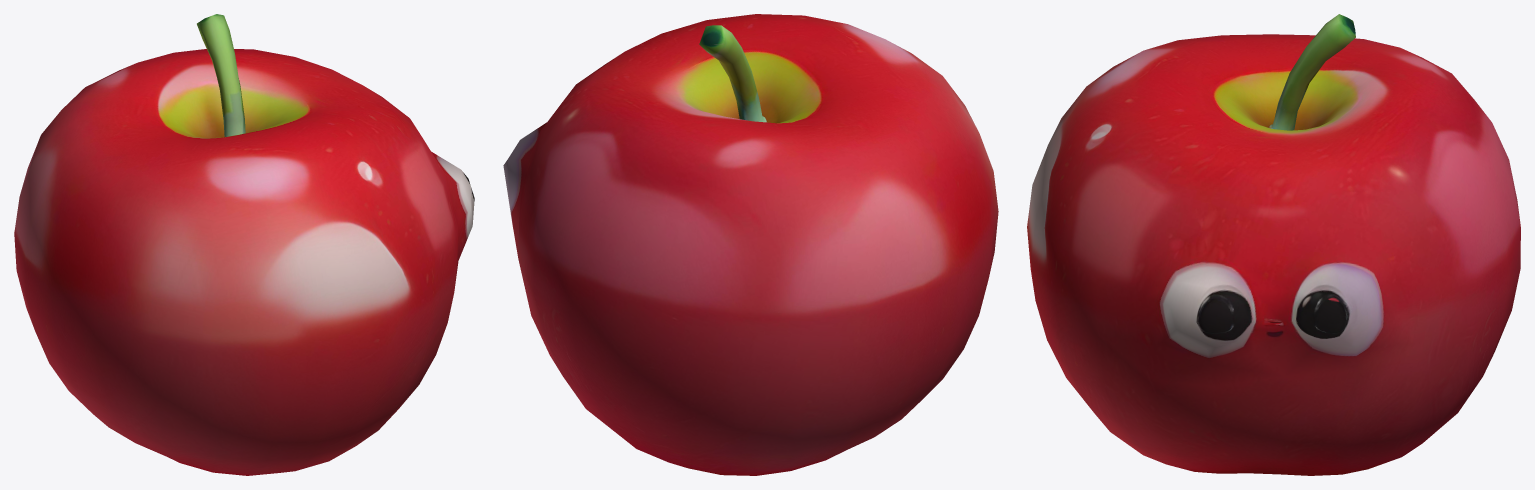
The model's file is apple_500.fbx.
3 renders of one model, left to right at view 1: azimuth 30°, elevation 25°; view 2: azimuth 150°, elevation 25°; view 3: azimuth 270°, elevation 25°, orthographic. The views are drawn at different scales.
Parts seen in each view (by area): view 1: tripo_node_cfe5615c; view 2: tripo_node_cfe5615c; view 3: tripo_node_cfe5615c.
Part boxes in pixels (left/top/right/bottom): tripo_node_cfe5615c: left=14, top=14, right=474, bottom=475; tripo_node_cfe5615c: left=503, top=14, right=998, bottom=475; tripo_node_cfe5615c: left=1027, top=14, right=1520, bottom=475.
Size of the model in its own units: 99.84 by 96.29 by 99.38.
Materials: 1 (1 with a texture image).
